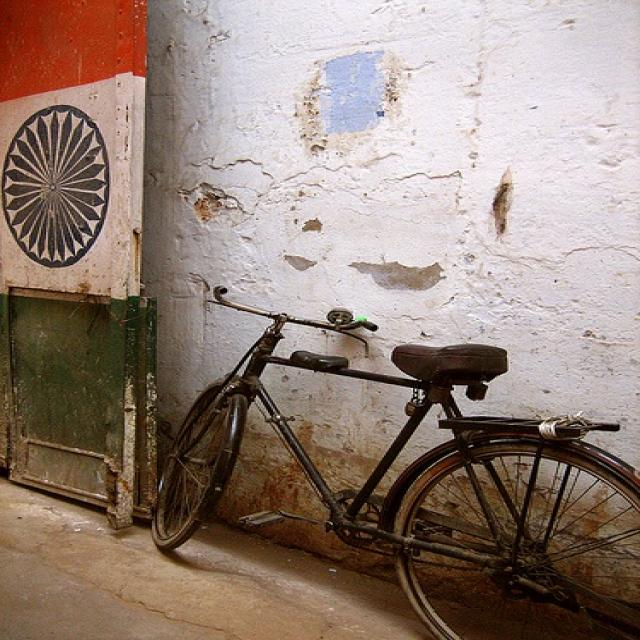bicycle: (150, 285, 638, 639)
